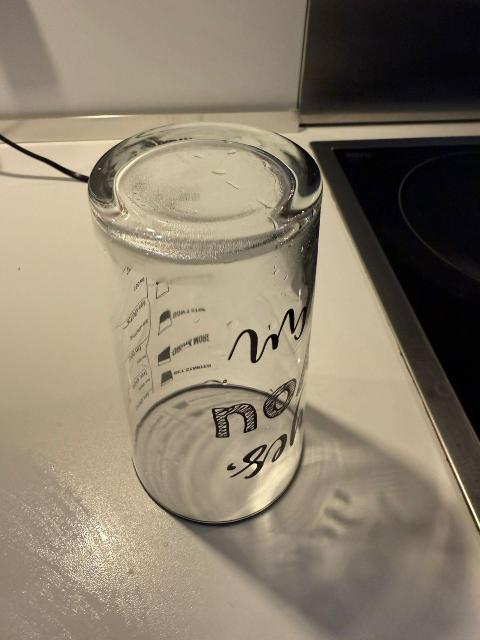Cam: (84, 120, 331, 527)
